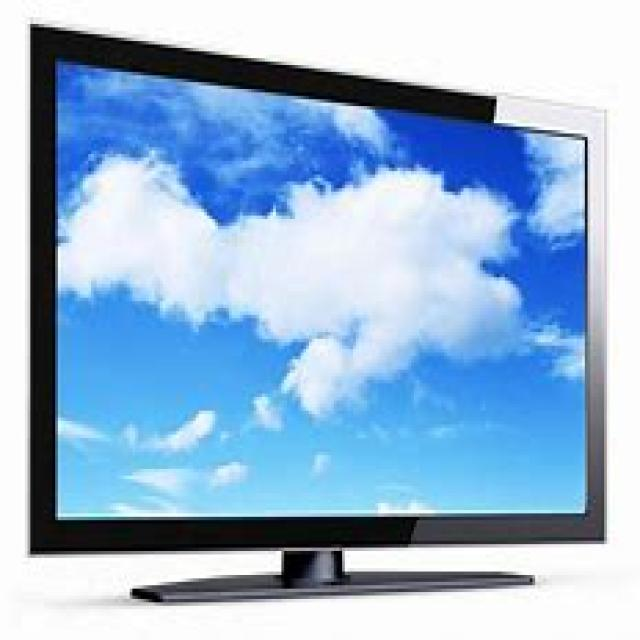tv: (28, 20, 610, 602)
